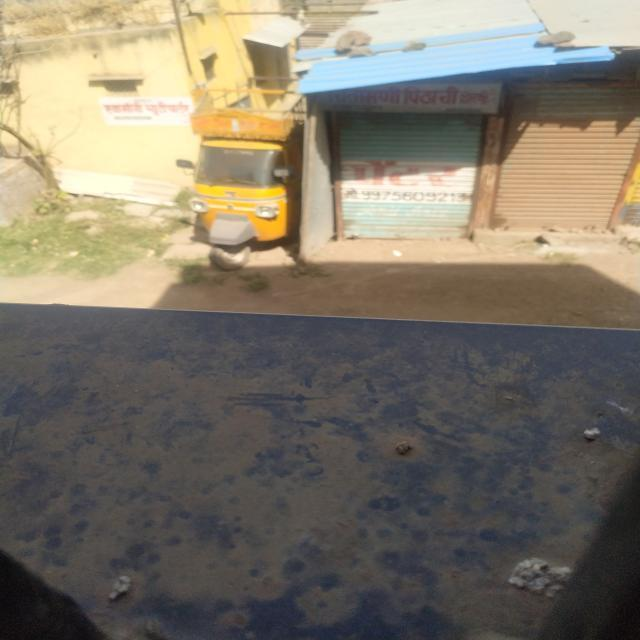auto_front: (162, 94, 308, 278)
